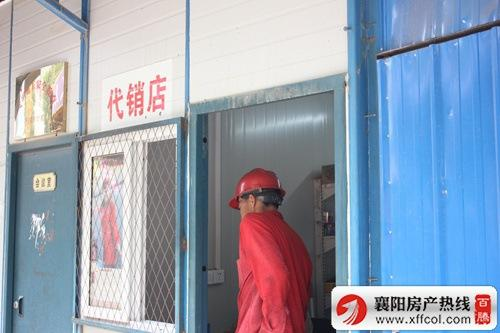helmet: (230, 168, 287, 212)
